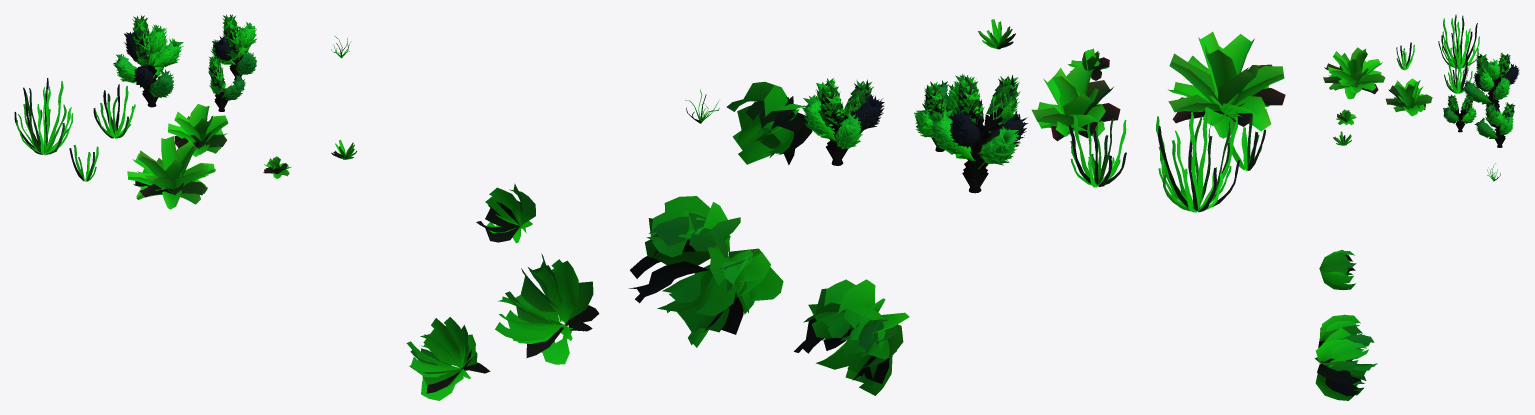
Rendered from shrubs_modified.fbx.
3 views of the same model, side by side, from view 1: azimuth 30°, elevation 25°; view 2: azimuth 150°, elevation 25°; view 3: azimuth 270°, elevation 25° (orthographic). The views are drawn at different scales.
Visible parts, largest first — view 1: creosote branch 02_7, cholla 01_9, yacca leaf 01_3, ocotillo branch 02_6, ocotillo branch 01_5, cholla 02_8, yacca leaf 02_4; view 2: creosote branch 02_7, yacca leaf 01_3, cholla 01_9, ocotillo branch 02_6, ocotillo branch 01_5, cholla 02_8, yacca leaf 02_4, agave_2; view 3: creosote branch 02_7, cholla 01_9, yacca leaf 01_3, ocotillo branch 02_6, ocotillo branch 01_5, cholla 02_8, yacca leaf 02_4.
Boxes of the visible parts, x1,y1,x2,y2 form: creosote branch 02_7: (406,183,599,400); cholla 01_9: (113,14,257,100); yacca leaf 01_3: (127,104,291,202); ocotillo branch 02_6: (18,78,135,154); ocotillo branch 01_5: (14,103,133,181); cholla 02_8: (126,35,249,109); yacca leaf 02_4: (136,140,220,209); creosote branch 02_7: (628,81,909,395); yacca leaf 01_3: (1031,32,1285,138); cholla 01_9: (802,73,1028,165); ocotillo branch 02_6: (1068,107,1237,211); ocotillo branch 01_5: (1070,116,1265,212); cholla 02_8: (816,96,1009,189); yacca leaf 02_4: (1044,97,1271,141); agave_2: (978,19,1015,49); creosote branch 02_7: (1314,250,1377,400); cholla 01_9: (1443,52,1519,137); yacca leaf 01_3: (1323,47,1432,125); ocotillo branch 02_6: (1442,14,1477,92); ocotillo branch 01_5: (1396,31,1479,93); cholla 02_8: (1447,68,1511,145); yacca leaf 02_4: (1329,79,1425,116).
Bounding box in the file's own units: 75270 × 49552 × 37756.
